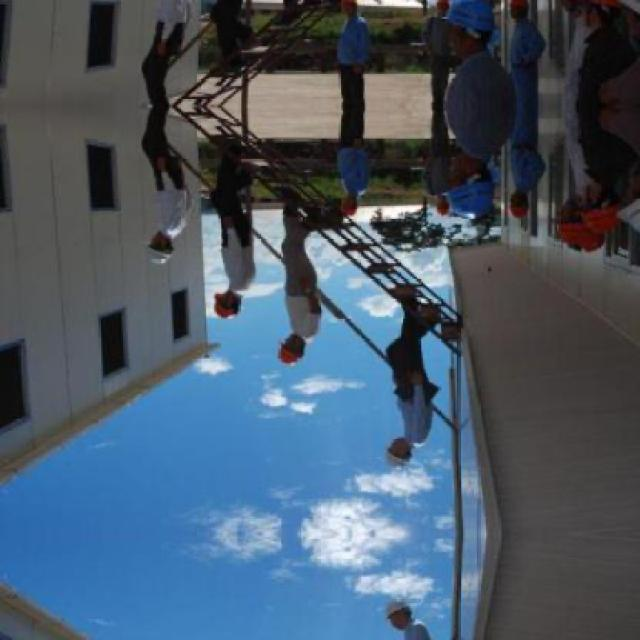con casco: (543, 190, 640, 272), (297, 167, 391, 232), (366, 414, 423, 497), (432, 156, 504, 220), (470, 190, 539, 242), (258, 330, 316, 386), (207, 270, 254, 328), (128, 212, 174, 266)
